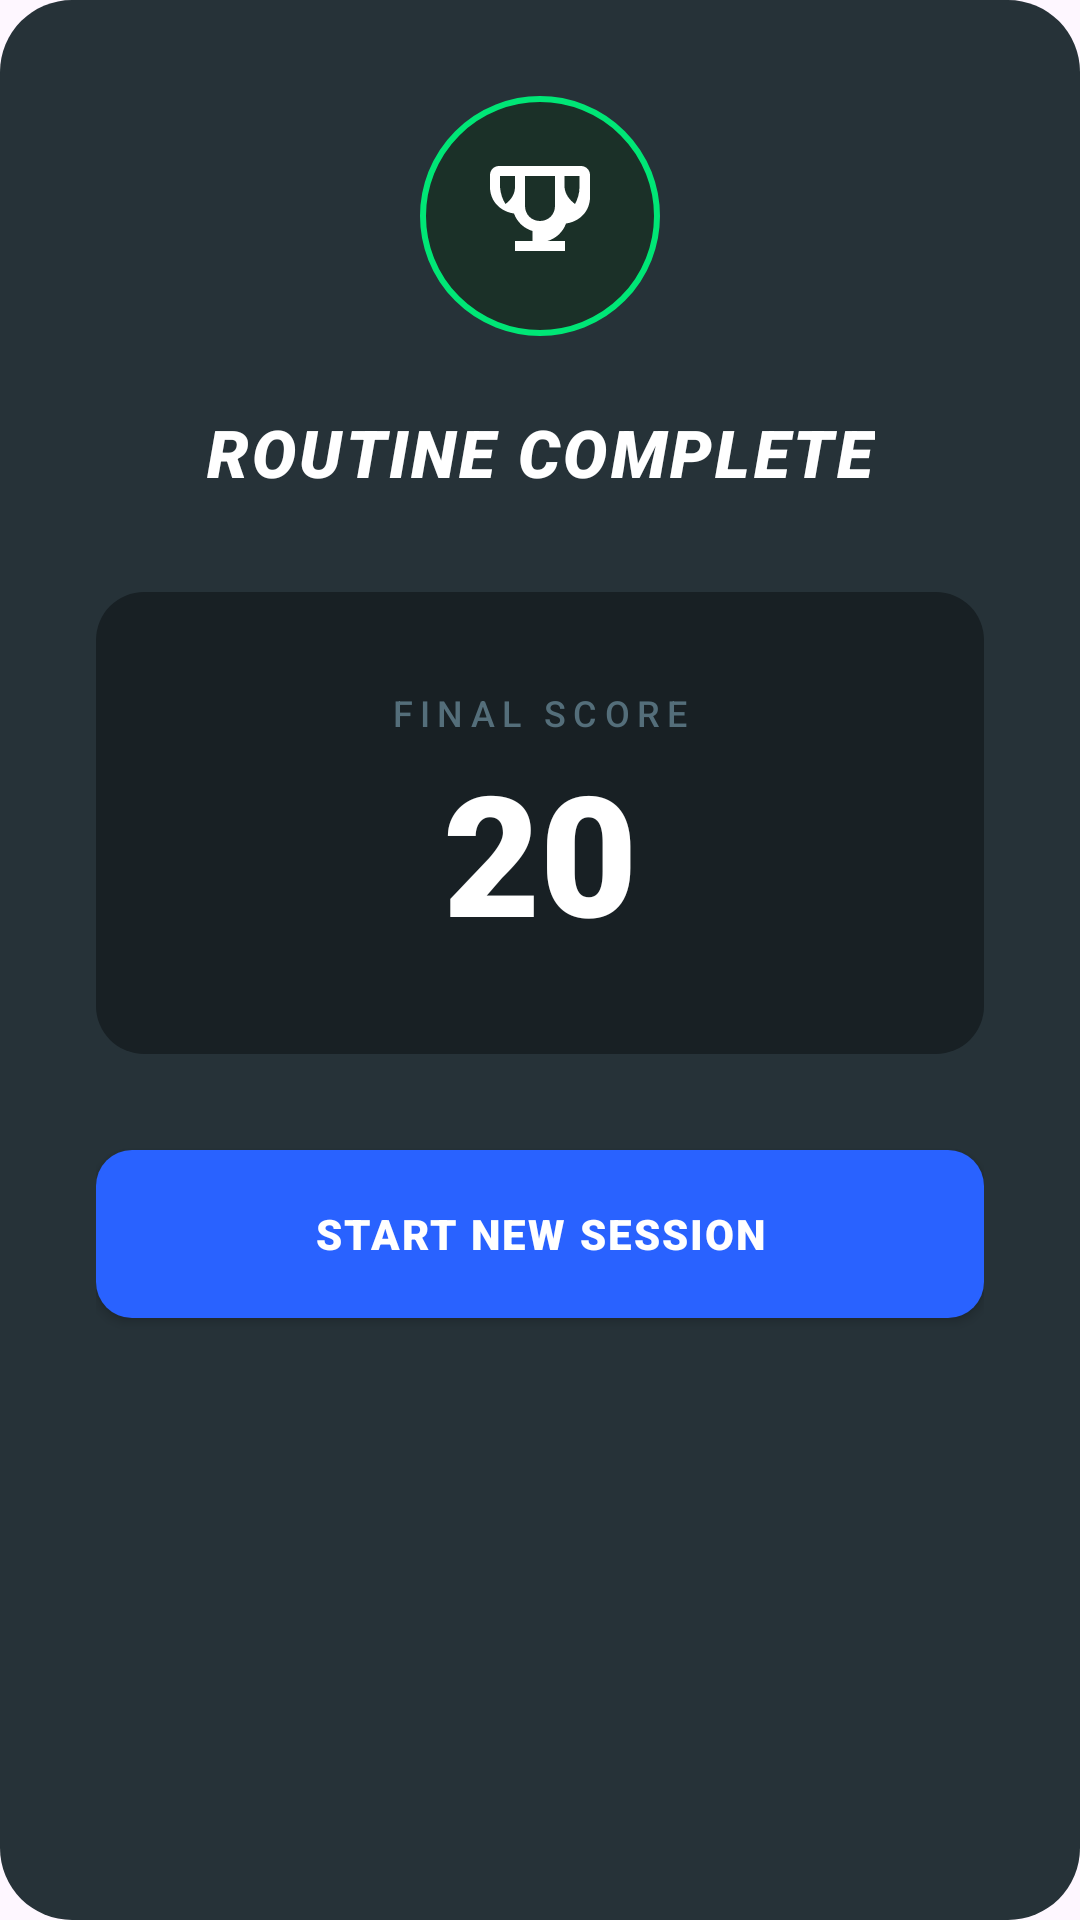

Locate icon controls on the screen. Image size 1080*1920, boxes as (x1, y1, x2, y2).
trophy: (490, 166, 590, 251)
